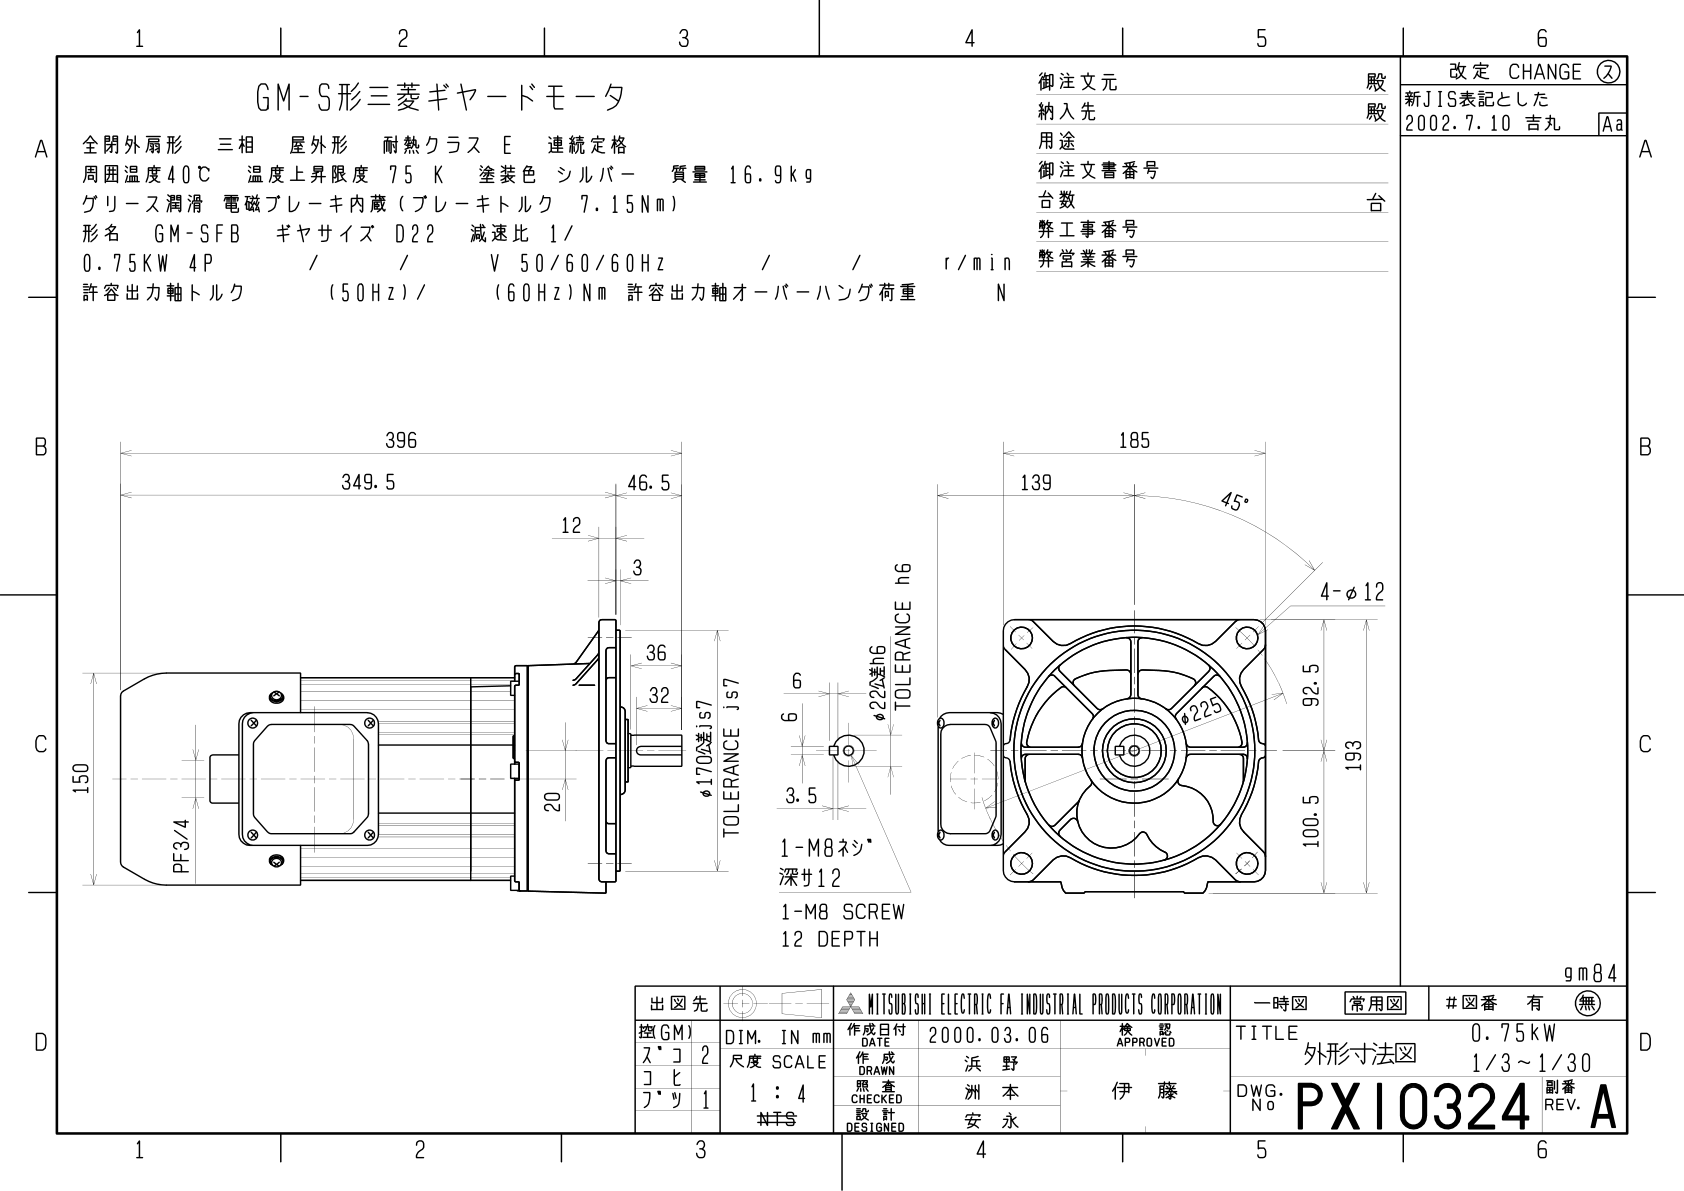GM_S_屋外＿三相_フランジ: (67, 396, 1395, 963)
